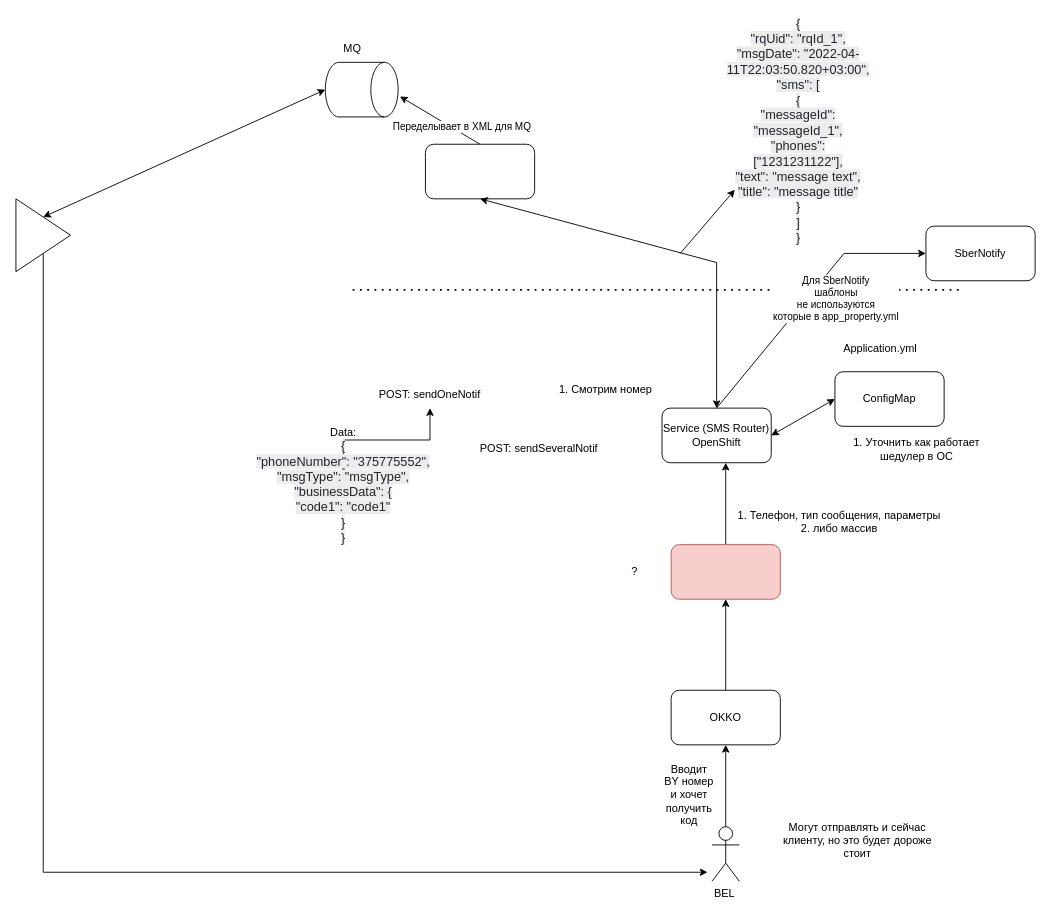
This 1051x915 diagram has some shape labels left out. Here are the shapes that lost their labels. From the top down, the centre of each, then its label:
the point at 480,171: Synapse adapter (BEL)
the point at 43,235: ByNotify
the point at 725,571: IDP Service
